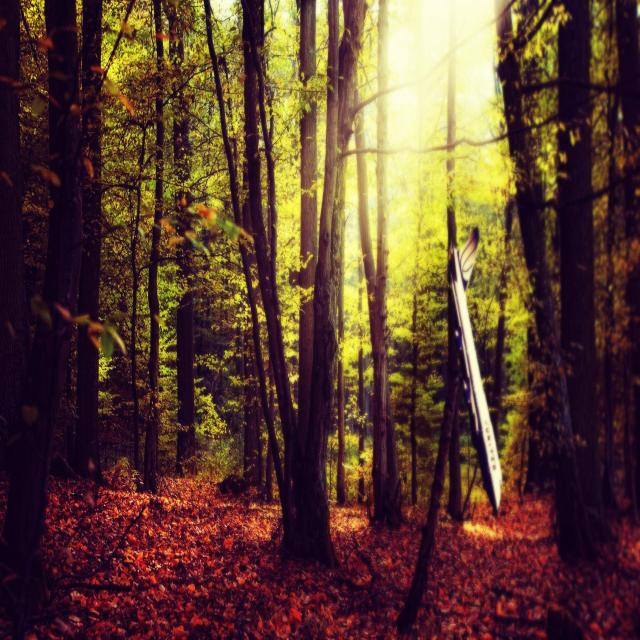airplane: (447, 210, 502, 516)
